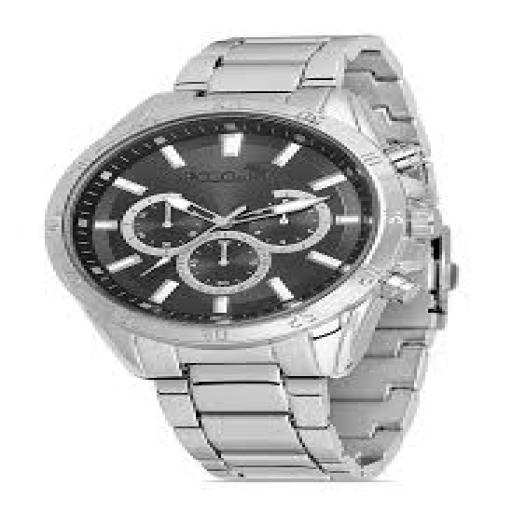KolSaati: (25, 12, 483, 492)
